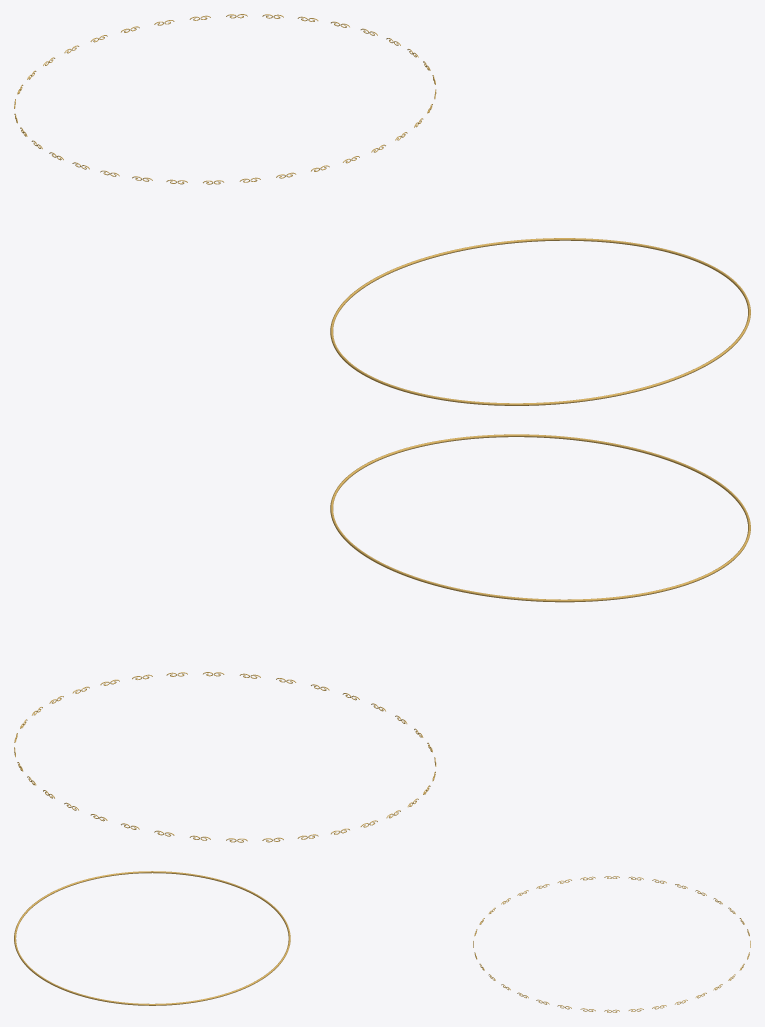
The model's file is KRM_STATIC_007.fbx.
3 views of the same model, one above another, from view 1: azimuth 30°, elevation 25°; view 2: azimuth 150°, elevation 25°; view 3: azimuth 270°, elevation 25° (orthographic). The views are drawn at different scales.
Visible parts, largest first — view 1: KRM_STATIC_007; view 2: KRM_STATIC_007; view 3: KRM_STATIC_007.
Part boxes in pixels (left/top/right/bottom): KRM_STATIC_007: left=14, top=14, right=750, bottom=405; KRM_STATIC_007: left=14, top=434, right=750, bottom=842; KRM_STATIC_007: left=14, top=871, right=750, bottom=1012.
Size of the model in its own units: 1930 by 56.37 by 4487.
Materials: 1 (1 with a texture image).
